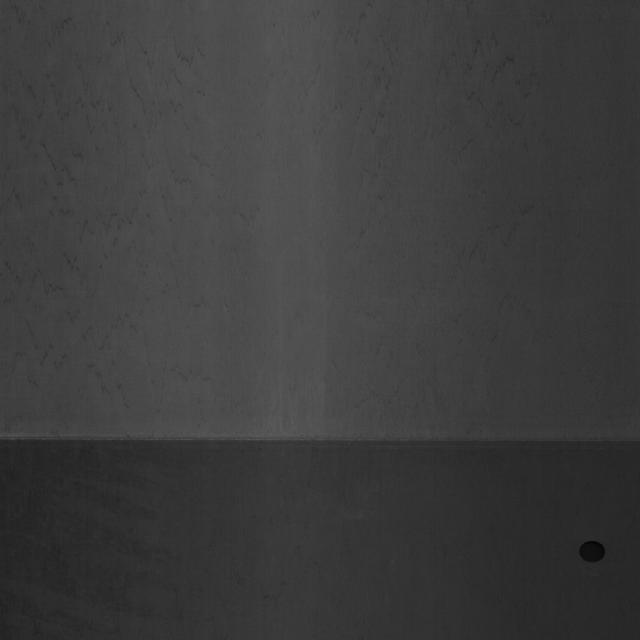crease: (2, 412, 640, 472)
crescent_gap: (574, 537, 610, 570)
